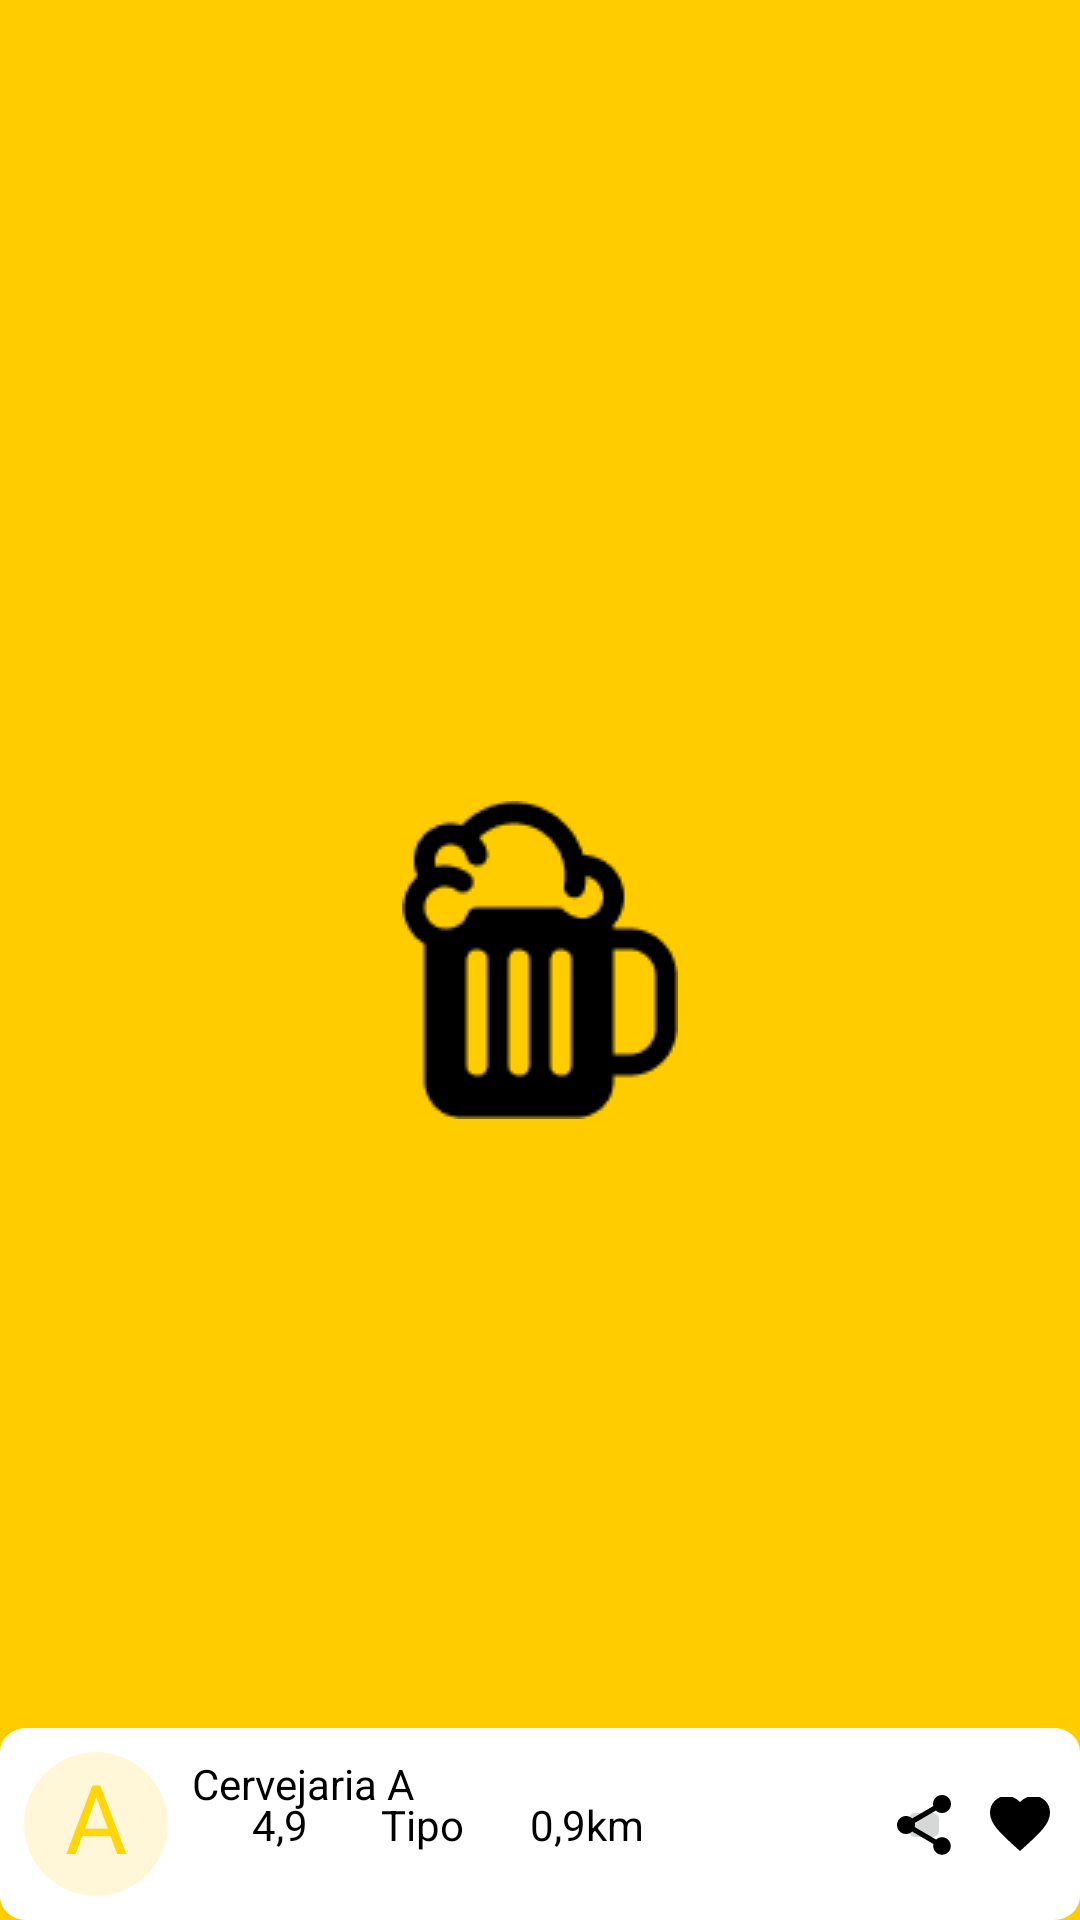

Icon bounding boxes for this 1080×1920 phone screenshot, format (x1, y1, x2, y2):
heart: (990, 1797, 1050, 1851)
share card opinion: (897, 1795, 951, 1855)
